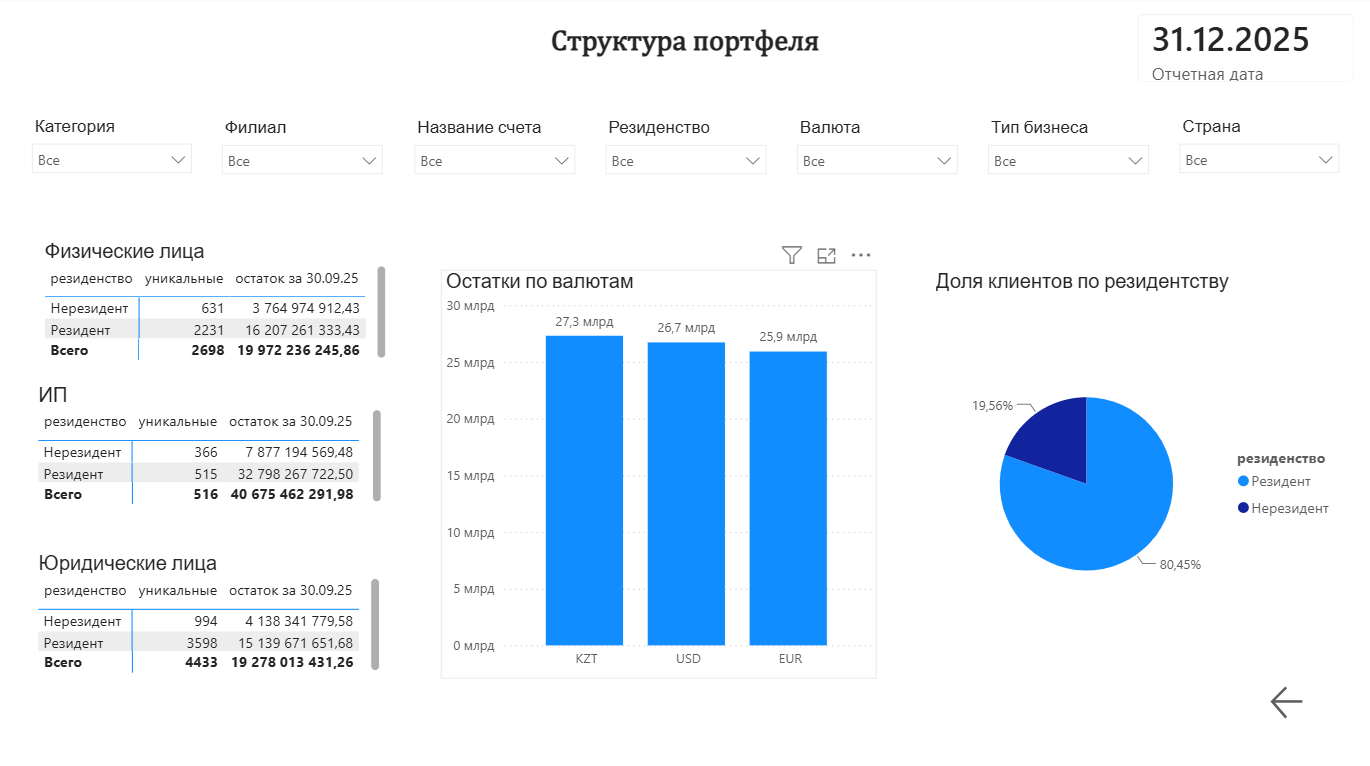

What the dashboard file says about the page in this screenshot:
{"tool":"powerbi","page":{"name":"Структура портфеля","canvas":[1280,720],"ordinal":1},"visuals":[{"type":"slicer","fields":{"Values":["dataset.ЮР ЛИЦА"]},"box":[22.2,106.8,169,71.2],"z":0,"group":"g1"},{"type":"actionButton","box":[1180.4,637.6,99.4,40],"z":0},{"type":"textbox","box":[492.3,22.2,296.6,51.9],"z":1000},{"type":"slicer","fields":{"Values":["справочник по городам.Филиал"]},"box":[199.4,107.4,170,70],"z":1000,"group":"g1"},{"type":"slicer","fields":{"Values":["справочник по счетам.Название счета"]},"box":[377.5,107.4,170,70],"z":2000,"group":"g1"},{"type":"pivotTable","title":"Физические лица","fields":{"Rows":["dataset.резиденство"],"Values":["dataset.уникальные","dataset.остаток за 30.09.25"]},"box":[40,226.9,327.7,117.1],"z":2000},{"type":"slicer","fields":{"Values":["dataset.резиденство"]},"box":[555.6,107.4,170,70],"z":3000,"group":"g1"},{"type":"pivotTable","title":"ИП","fields":{"Rows":["dataset.резиденство"],"Values":["dataset.уникальные","dataset.остаток за 30.09.25"]},"box":[34.1,360.3,329.2,117.1],"z":3000},{"type":"slicer","fields":{"Values":["dataset.crncy_code"]},"box":[733.7,107.4,170,70],"z":4000,"group":"g1"},{"type":"pivotTable","title":"Юридические лица","fields":{"Rows":["dataset.резиденство"],"Values":["dataset.уникальные","dataset.остаток за 30.09.25"]},"box":[34.1,517.5,327.7,117.1],"z":4000},{"type":"slicer","fields":{"Values":["dataset.business_type"]},"box":[911.8,107.4,170,70],"z":5000,"group":"g1"},{"type":"columnChart","title":"Остатки по валютам","fields":{"Y":["dataset.остаток за 31.08.25"],"Category":["dataset.crncy_code"]},"box":[412.2,255.1,406.3,379.6],"z":5000},{"type":"slicer","fields":{"Values":["dataset.reg_country"]},"box":[1089.9,106.8,169,71.2],"z":6000,"group":"g1"},{"type":"pieChart","title":"Доля клиентов по резидентству","fields":{"Y":["CountNonNull(dataset.Категория клиента)"],"Category":["dataset.резиденство"]},"box":[869,255.1,390,379.6],"z":6000},{"type":"group","id":"g1","title":"Группа 1","box":[22.2,106.8,1236.7,71.2],"z":7000},{"type":"cardVisual","fields":{"Data":["dataset.Последняя дата"]},"box":[1043.9,0,235.8,97.9],"z":8000}]}

Visuals, with their boxes in screenshot pixels (x1, y1, x2, y2), scaled from the page's 1280x720 canvas onto the 1370x766 screenshot:
slicer - dataset.ЮР ЛИЦА: [24,114,205,189]
actionButton: [1263,678,1369,721]
textbox: [527,24,844,79]
slicer - справочник по городам.Филиал: [213,114,395,189]
slicer - справочник по счетам.Название счета: [404,114,586,189]
"Физические лица" pivotTable: [43,241,394,366]
slicer - dataset.резиденство: [595,114,777,189]
"ИП" pivotTable: [36,383,389,508]
slicer - dataset.crncy_code: [785,114,967,189]
"Юридические лица" pivotTable: [36,551,387,675]
slicer - dataset.business_type: [976,114,1158,189]
"Остатки по валютам" columnChart: [441,271,876,675]
slicer - dataset.reg_country: [1167,114,1347,189]
"Доля клиентов по резидентству" pieChart: [930,271,1348,675]
"Группа 1" group: [24,114,1347,189]
cardVisual - dataset.Последняя дата: [1117,0,1369,104]
